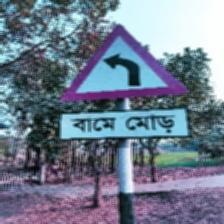Left-Turn: (57, 23, 192, 141)
